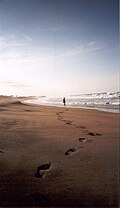human_foot_print: (35, 163, 51, 177), (80, 134, 92, 144), (65, 148, 76, 155)
